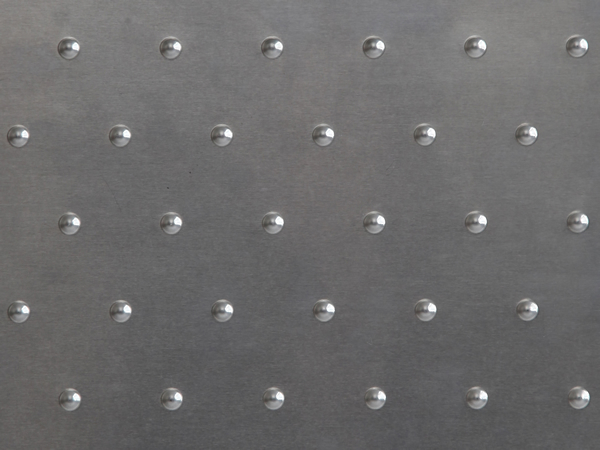rivet: (360, 385, 390, 414), (461, 386, 492, 414), (108, 122, 136, 153), (564, 383, 592, 413), (561, 208, 591, 236), (359, 209, 389, 237), (209, 122, 238, 150), (259, 385, 287, 413), (208, 297, 236, 325), (309, 122, 337, 150), (412, 122, 440, 150), (309, 298, 338, 325), (56, 211, 85, 238), (513, 121, 540, 150), (461, 210, 491, 236), (56, 387, 84, 414), (5, 298, 32, 326), (260, 210, 287, 238), (5, 122, 32, 150), (564, 33, 591, 61), (156, 210, 185, 236), (260, 34, 287, 61), (109, 297, 135, 325), (462, 33, 488, 61), (158, 386, 184, 413), (360, 36, 387, 62), (56, 36, 83, 62), (158, 35, 183, 63), (514, 297, 540, 323), (414, 298, 438, 324)
